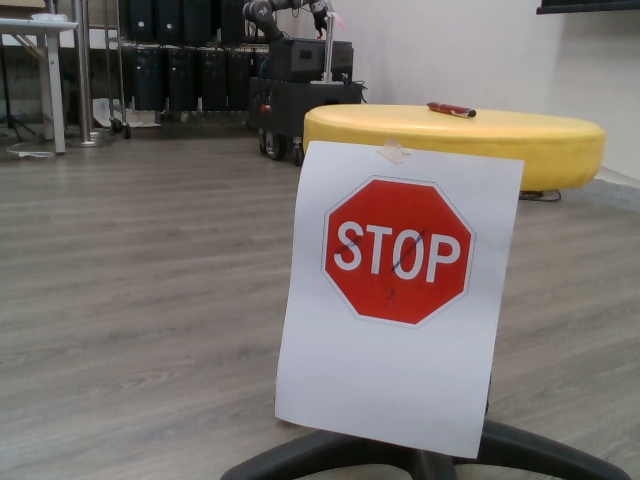stop: (316, 172, 477, 329)
